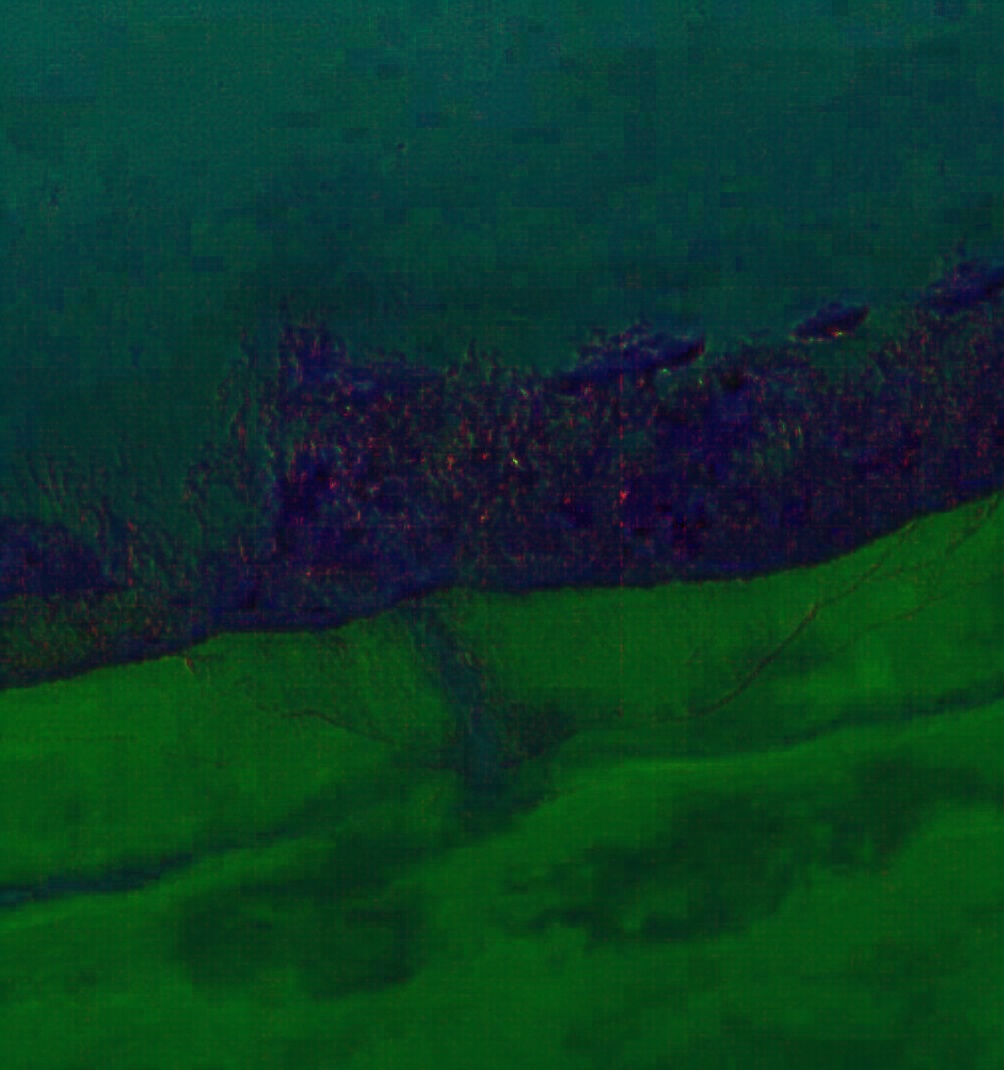rip_current: (253, 377, 514, 728)
